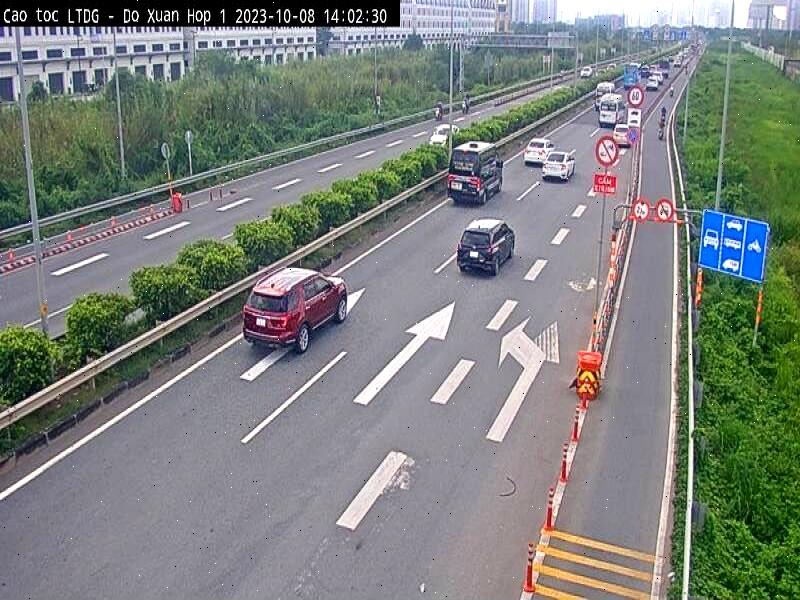car: (243, 269, 349, 355), (456, 216, 516, 275), (446, 142, 504, 203), (542, 149, 577, 182), (523, 137, 553, 168)
